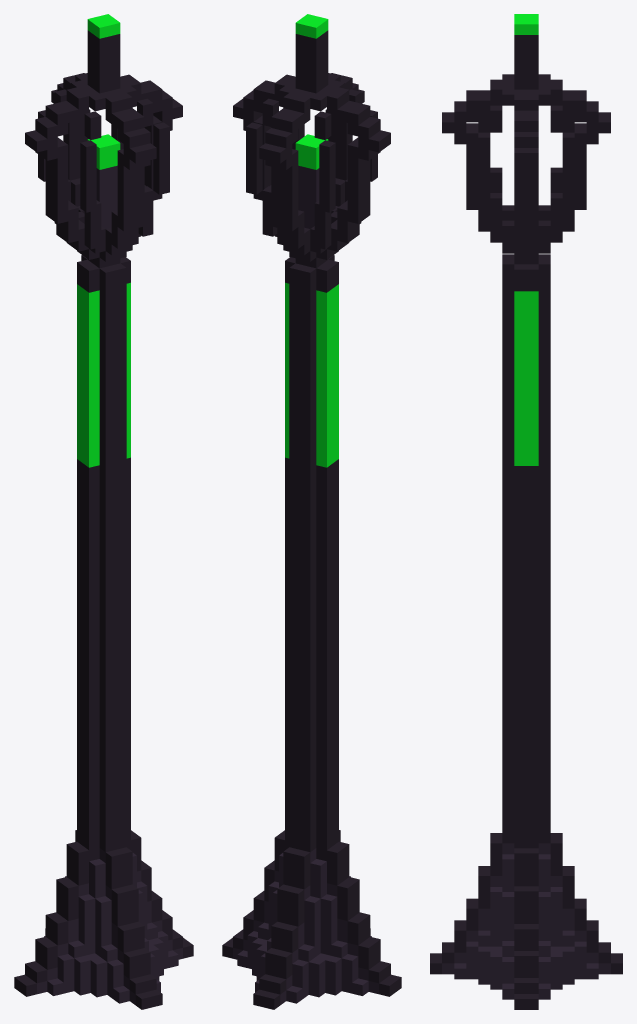
The model's file is StreetLight1.obj.
The picture shows the model from 3 angles, left to right: view 1: azimuth 30°, elevation 25°; view 2: azimuth 150°, elevation 25°; view 3: azimuth 270°, elevation 25°; orthographic projection.
Bounding box in the file's own units: 16 × 87 × 16.
1 material, 1 textured.
